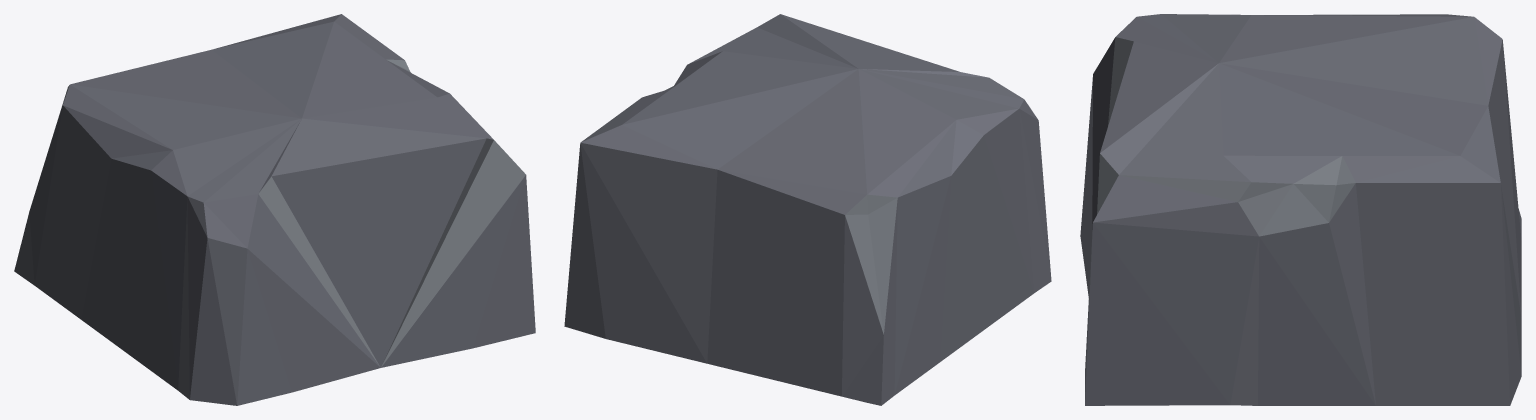
File: Altar_06.FBX
The picture shows the model from 3 angles, left to right: view 1: azimuth 30°, elevation 25°; view 2: azimuth 150°, elevation 25°; view 3: azimuth 270°, elevation 25°; orthographic projection. The views are drawn at different scales.
Parts seen in each view (by area): view 1: Altar_06; view 2: Altar_06; view 3: Altar_06.
Boxes of the visible parts, box(x1,y1,x2,y2) form: Altar_06: box(14, 14, 535, 405); Altar_06: box(564, 14, 1051, 405); Altar_06: box(1080, 14, 1521, 405).
Bounding box in the file's own units: 0.893 × 0.548 × 0.8939.
